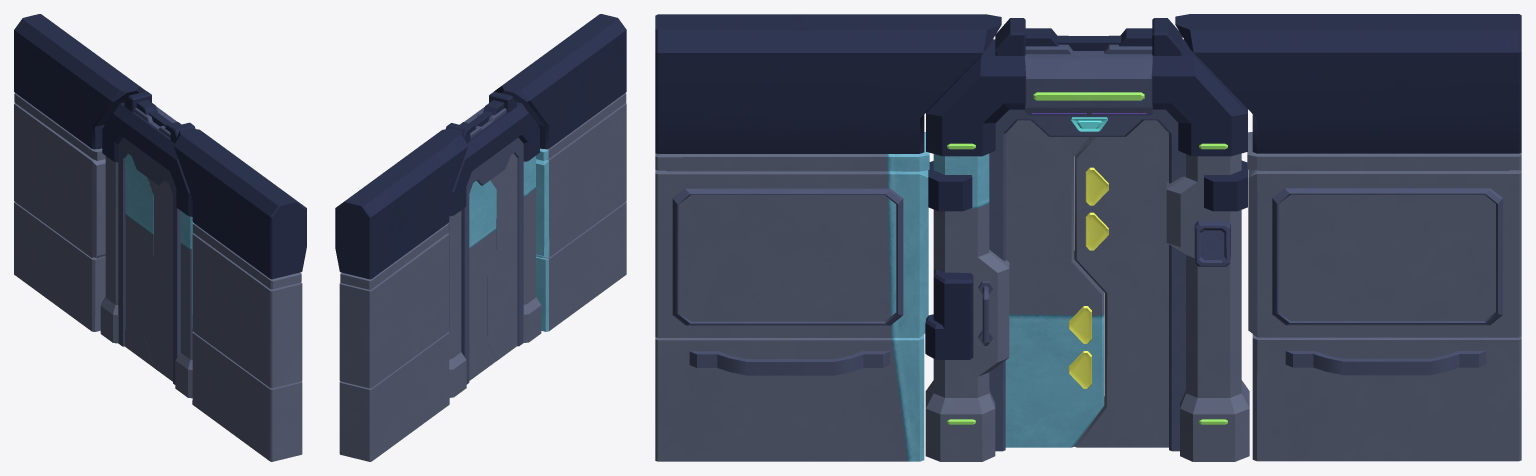
File: door.fbx
The picture shows the model from 3 angles, left to right: view 1: azimuth 30°, elevation 25°; view 2: azimuth 150°, elevation 25°; view 3: azimuth 270°, elevation 25°; orthographic projection. The views are drawn at different scales.
Parts seen in each view (by area): view 1: pasted__doorframeL, pasted__doorframeR, pasted__doorframe, pasted__doorL, pasted__doorR; view 2: pasted__doorframeR, pasted__doorframeL, pasted__doorframe, pasted__doorL, pasted__doorR; view 3: pasted__doorframeR, pasted__doorframeL, pasted__doorframe, pasted__doorL, pasted__doorR, pasted__polySurface2728.
Part boxes in pixels (x1,y1,x2,y2): pasted__doorframeL: (173, 128, 306, 461); pasted__doorframeR: (14, 14, 146, 331); pasted__doorframe: (100, 91, 195, 398); pasted__doorL: (144, 177, 172, 381); pasted__doorR: (125, 154, 153, 366); pasted__doorframeR: (335, 128, 468, 461); pasted__doorframeL: (494, 14, 626, 331); pasted__doorframe: (446, 91, 541, 397); pasted__doorL: (487, 153, 517, 360); pasted__doorR: (469, 180, 496, 380); pasted__doorframeR: (1175, 14, 1521, 461); pasted__doorframeL: (655, 14, 1001, 461); pasted__doorframe: (925, 18, 1249, 461); pasted__doorL: (1005, 120, 1104, 447); pasted__doorR: (1074, 120, 1168, 447); pasted__polySurface2728: (1033, 92, 1144, 100).
Size of the model in its own units: 9.23 by 49.42 by 90.78.
